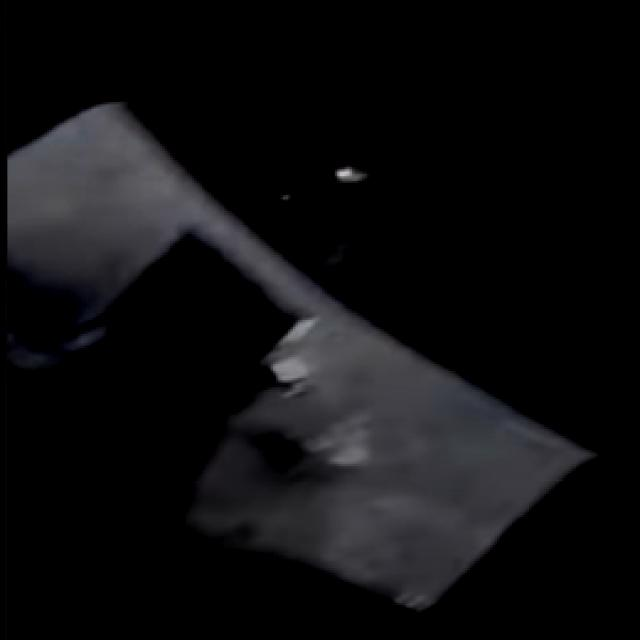large_debris: (0, 65, 592, 633)
